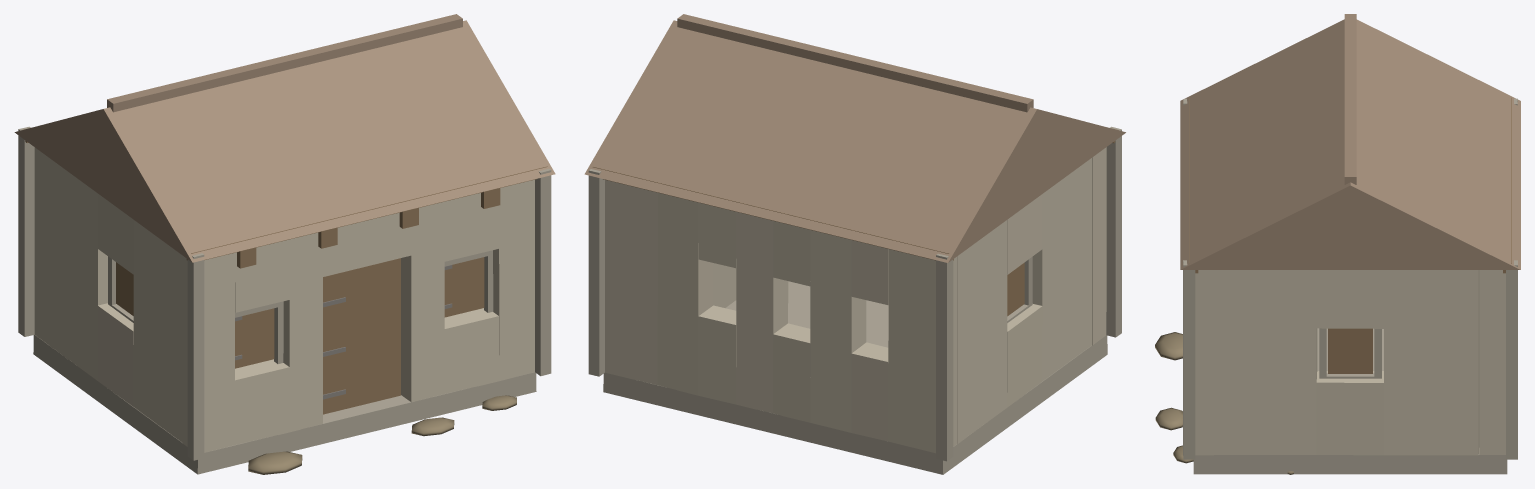
File: fontfroide_dormer.glb
3 renders of one model, left to right at view 1: azimuth 30°, elevation 25°; view 2: azimuth 150°, elevation 25°; view 3: azimuth 270°, elevation 25°, orthographic. The views are drawn at different scales.
Visible parts, largest first — view 1: Dorm_Stone, Dorm_RoofGroup, Dorm_Wood, Dorm_Mud; view 2: Dorm_Stone, Dorm_RoofGroup, Dorm_Wood; view 3: Dorm_RoofGroup, Dorm_Stone, Dorm_Wood, Dorm_Mud.
Part boxes in pixels (box(x1,y1,x2,y2)): Dorm_Stone: box(18, 126, 551, 474); Dorm_RoofGroup: box(14, 14, 555, 268); Dorm_Wood: box(116, 257, 484, 414); Dorm_Mud: box(248, 395, 516, 474); Dorm_Stone: box(588, 126, 1121, 474); Dorm_RoofGroup: box(584, 14, 1125, 262); Dorm_Wood: box(1007, 262, 1024, 316); Dorm_RoofGroup: box(1180, 14, 1520, 273); Dorm_Stone: box(1183, 98, 1517, 474); Dorm_Wood: box(1328, 328, 1372, 373); Dorm_Mud: box(1155, 332, 1293, 474).
Size of the model in its own units: 5.36 by 4.43 by 4.9.
